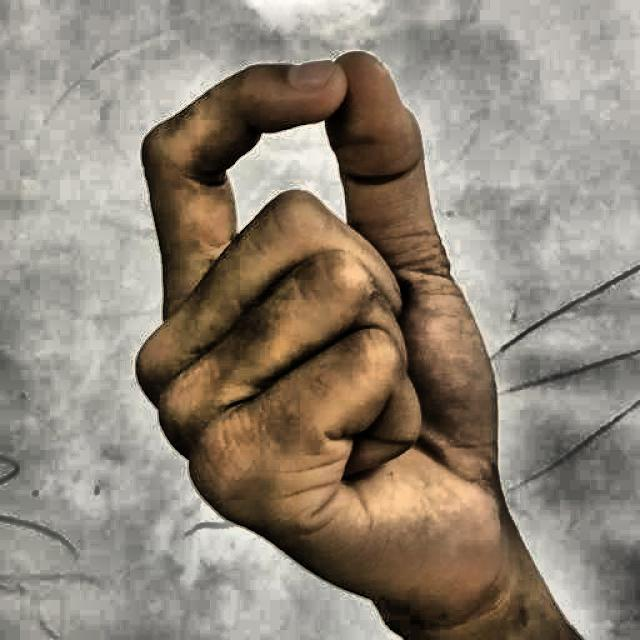Gha: (84, 34, 589, 631)
